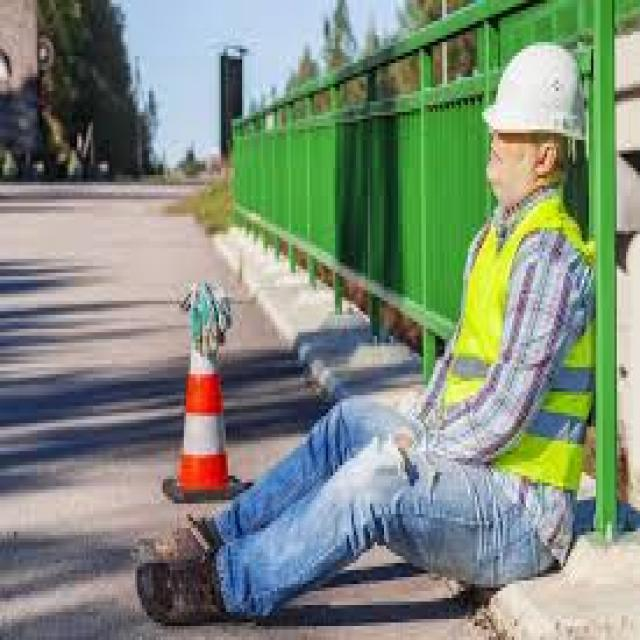Reflective-Jacket: (440, 196, 598, 500)
Safety-Helmet: (480, 35, 591, 150)
